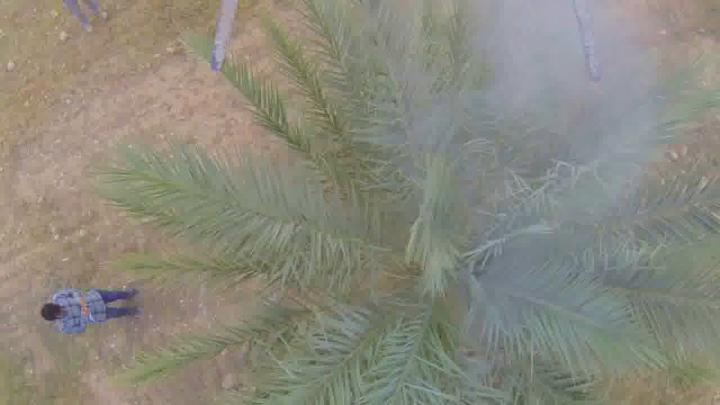Date-Palm-Crown: (226, 103, 634, 405)
